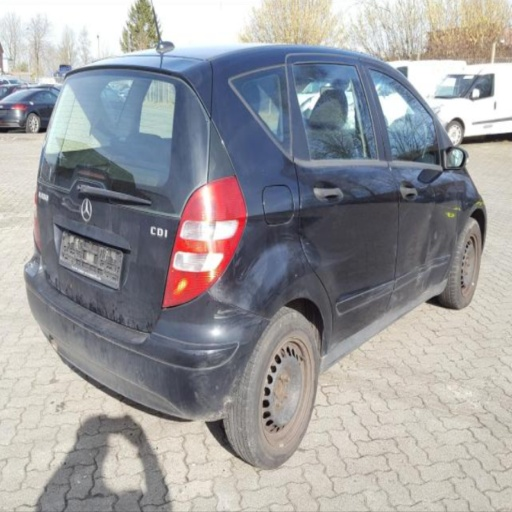dent: (412, 196, 450, 292)
rust: (259, 338, 312, 449), (271, 368, 291, 407)
scratch: (212, 307, 244, 322), (429, 190, 448, 200), (421, 289, 432, 295), (417, 193, 424, 200)
